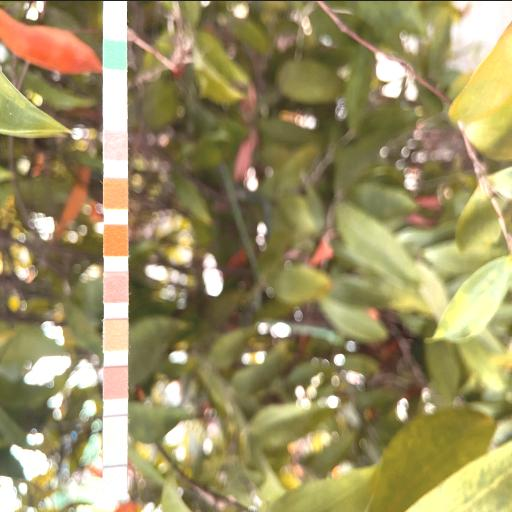Bilirubin: (104, 86, 128, 114)
Blood: (104, 226, 128, 254)
Glucose: (104, 41, 126, 68)
Ketone: (104, 132, 128, 158)
Leukocytes: (104, 467, 127, 497)
Nitrite: (104, 416, 128, 446)
Protein: (104, 320, 128, 350)
SpGravity: (103, 178, 127, 208)
Urobilinogen: (104, 368, 128, 398)
pH: (104, 272, 128, 301)
strip: (103, 1, 128, 498)
